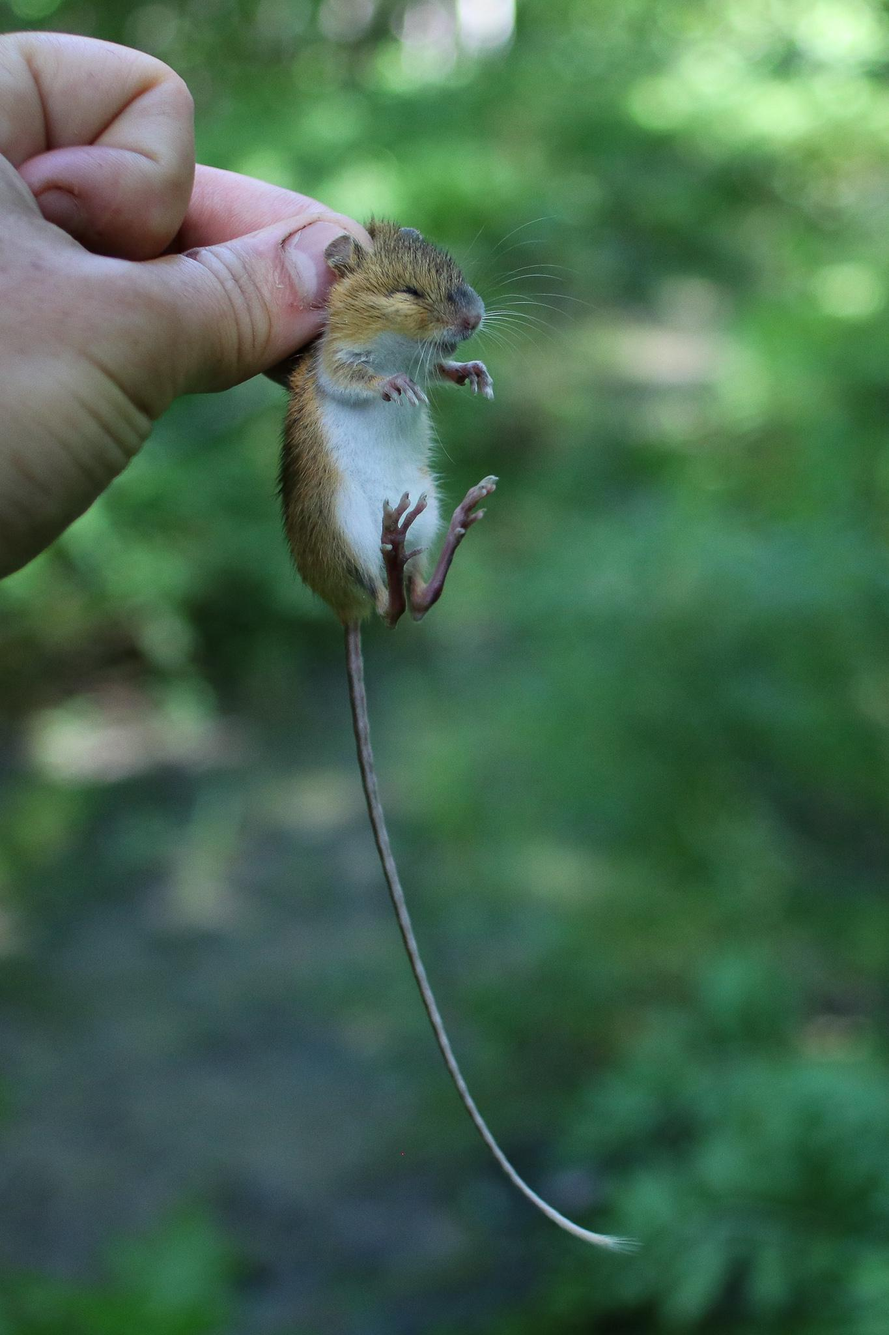mouse: (283, 216, 627, 1248)
